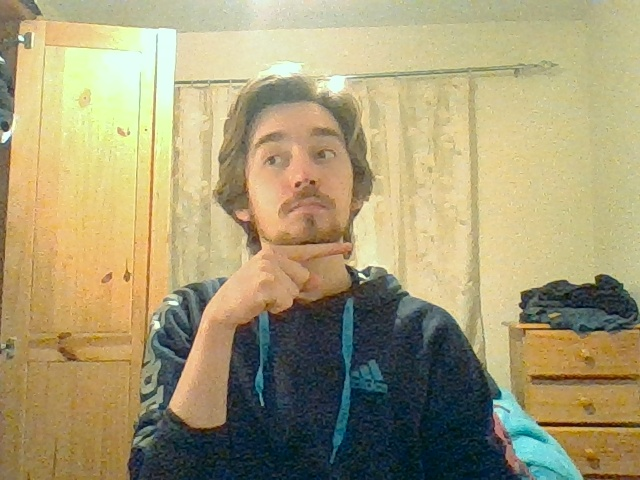son: (243, 242, 352, 315)
